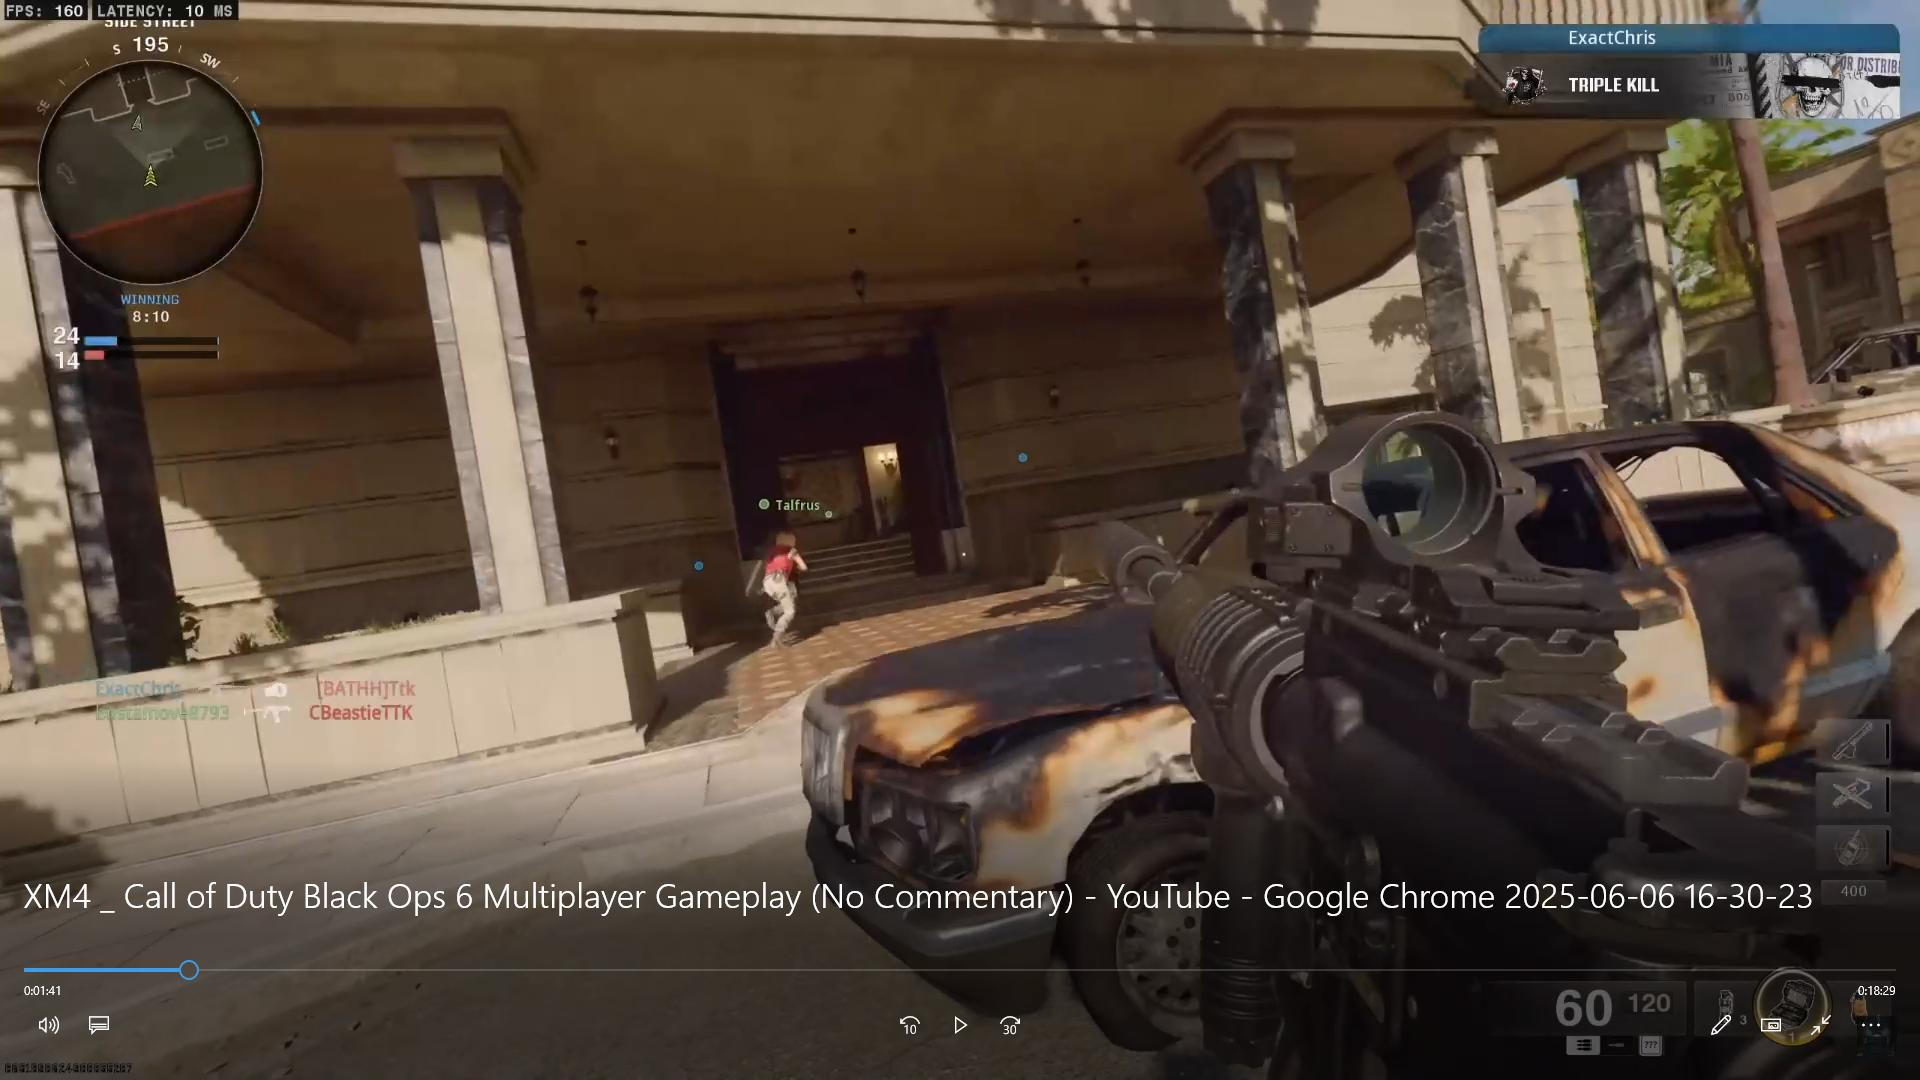Enemy: (748, 524, 822, 653)
